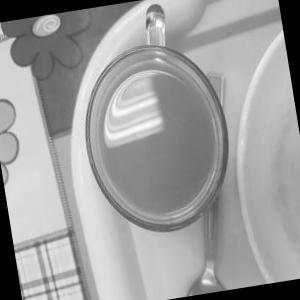coffee: (62, 25, 255, 248)
